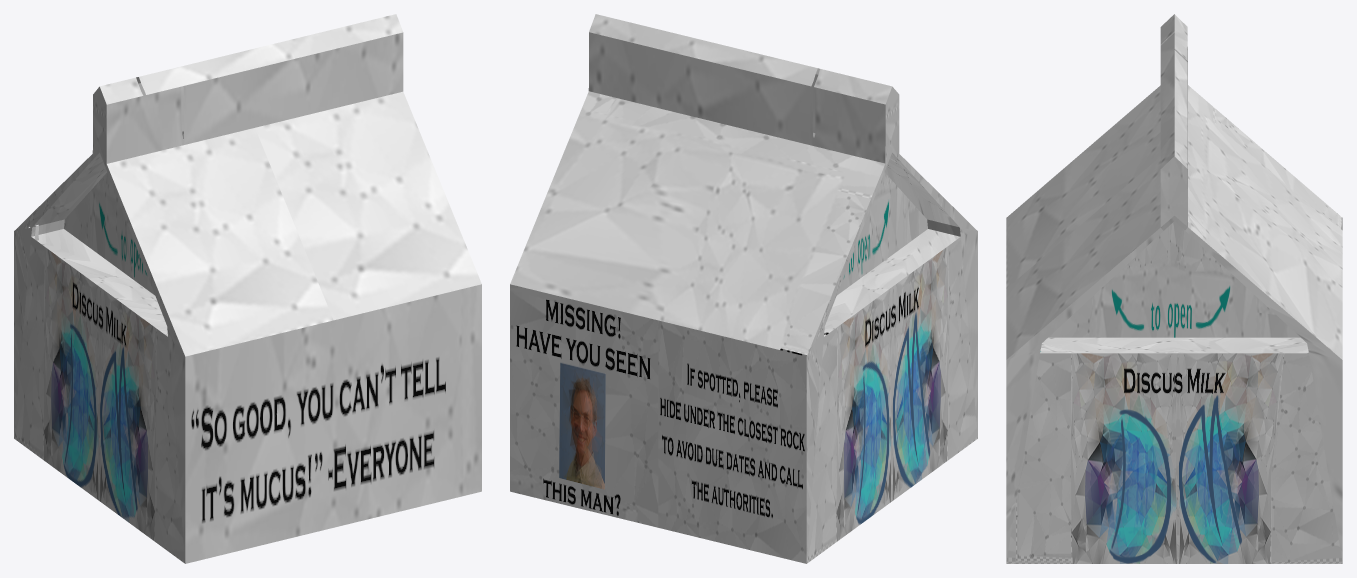
File: milkcarton16-1.fbx
3 views of the same model, side by side, from view 1: azimuth 30°, elevation 25°; view 2: azimuth 150°, elevation 25°; view 3: azimuth 270°, elevation 25° (orthographic).
Visible parts, largest first — view 1: Cube; view 2: Cube; view 3: Cube.
Boxes of the visible parts, x1,y1,x2,y2 form: Cube: (14,14,481,563); Cube: (510,14,977,563); Cube: (1006,14,1342,563).
Size of the model in its own units: 2 by 2.67 by 2.
